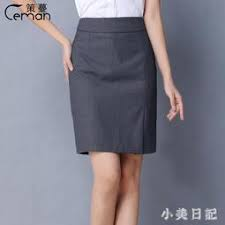S_skirt: (65, 15, 163, 158)
